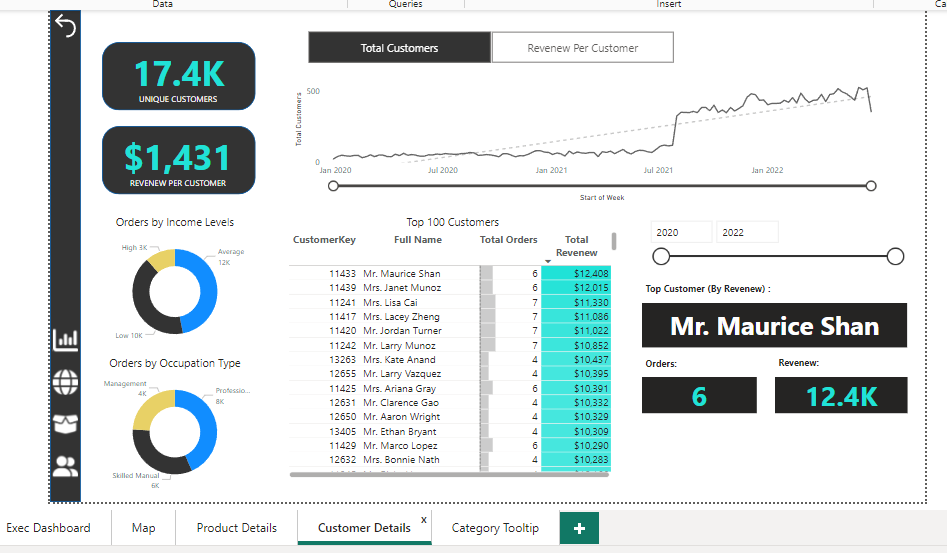

The page's visual inventory and layout, read from the dashboard file:
{"tool":"powerbi","page":{"name":"Customer Details","canvas":[1280,720],"ordinal":3},"visuals":[{"type":"shape","box":[0,0,45,720],"z":0},{"type":"shape","box":[75.4,46.2,224.6,100],"z":1000},{"type":"card","fields":{"Values":["Measure Table.Total Customers"]},"box":[66.2,18.5,243.1,156.9],"z":2000},{"type":"shape","box":[75.9,169.2,224.6,100],"z":3000},{"type":"card","fields":{"Values":["Measure Table.Average Revenew Per Customer"]},"box":[66.2,141.5,243.1,156.9],"z":4000},{"type":"lineChart","title":"Weekly Revenew","fields":{"Y":["Measure Table.Total Customers"],"Category":["Calendar Lookup.Date Hierarchy.Start of Year","Calendar Lookup.Date Hierarchy.Start of Month","Calendar Lookup.Date Hierarchy.Start of Week","Calendar Lookup.Date Hierarchy.Date"]},"box":[352.7,83.4,878,202],"z":5000},{"type":"donutChart","title":"Orders by Income Levels","fields":{"Category":["Customer Lookup.Income Level"],"Y":["Measure Table.Total Orders"]},"box":[66.2,298.5,233.8,206.2],"z":6000},{"type":"donutChart","title":"Orders by Occupation Type","fields":{"Y":["Measure Table.Total Orders"],"Category":["Customer Lookup.Occupation"]},"box":[66.2,504.6,233.8,204.6],"z":7000},{"type":"tableEx","title":"Top 100 Customers","fields":{"Values":["Customer Lookup.CustomerKey","Customer Lookup.FullName","Measure Table.Total Orders","Measure Table.Total Revenew"]},"box":[343.9,298.5,490.9,390.9],"z":8000},{"type":"card","fields":{"Values":["Customer Lookup.Full Name (Customer Details)"]},"box":[866.7,428.8,387.9,65.2],"z":9000},{"type":"card","fields":{"Values":["Measure Table.Total Orders (Customer Details)"]},"box":[866.7,536.4,168.2,53],"z":10000},{"type":"card","fields":{"Values":["Measure Table.Total Revenue (Customer Details)"]},"box":[1060.6,536.4,193.9,53],"z":11000},{"type":"textbox","box":[866.7,394.2,362.9,35.1],"z":12000},{"type":"textbox","box":[866.7,503,166.7,34.8],"z":13000},{"type":"textbox","box":[1060.6,501.5,193.9,34.8],"z":14000},{"type":"slicer","fields":{"Values":["Calendar Lookup.Year"]},"box":[866.7,298.5,392.4,86.4],"z":15000},{"type":"actionButton","box":[0,0,45.5,45.5],"z":16000},{"type":"actionButton","box":[0,453,45.5,59.1],"z":17000},{"type":"actionButton","box":[0,576.3,45.5,59.1],"z":18000},{"type":"actionButton","box":[0,514.6,45.5,59.1],"z":19000},{"type":"actionButton","box":[0,637.9,45.5,59.1],"z":20000},{"type":"slicer","fields":{"Values":["Customer Metric Selection.Customer Metric Selection"]},"box":[352.7,24.9,583.9,58.5],"z":21000}]}

Visuals, with their boxes on the page's 1280x720 design canvas (x1, y1, x2, y2). These are canvas units, not pixel positions in the 947x553 screenshot, which may show the page scaled, cropped or inside an application window:
shape: [0,0,45,720]
shape: [75,46,300,146]
card - Measure Table.Total Customers: [66,18,309,175]
shape: [76,169,300,269]
card - Measure Table.Average Revenew Per Customer: [66,142,309,298]
"Weekly Revenew" lineChart: [353,83,1231,285]
"Orders by Income Levels" donutChart: [66,298,300,505]
"Orders by Occupation Type" donutChart: [66,505,300,709]
"Top 100 Customers" tableEx: [344,298,835,689]
card - Customer Lookup.Full Name (Customer Details): [867,429,1255,494]
card - Measure Table.Total Orders (Customer Details): [867,536,1035,589]
card - Measure Table.Total Revenue (Customer Details): [1061,536,1254,589]
textbox: [867,394,1230,429]
textbox: [867,503,1033,538]
textbox: [1061,502,1254,536]
slicer - Calendar Lookup.Year: [867,298,1259,385]
actionButton: [0,0,46,46]
actionButton: [0,453,46,512]
actionButton: [0,576,46,635]
actionButton: [0,515,46,574]
actionButton: [0,638,46,697]
slicer - Customer Metric Selection.Customer Metric Selection: [353,25,937,83]
